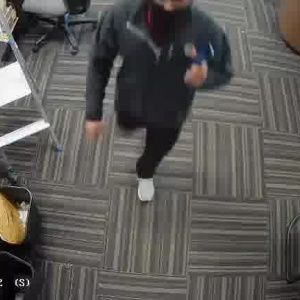person: (86, 0, 224, 205)
